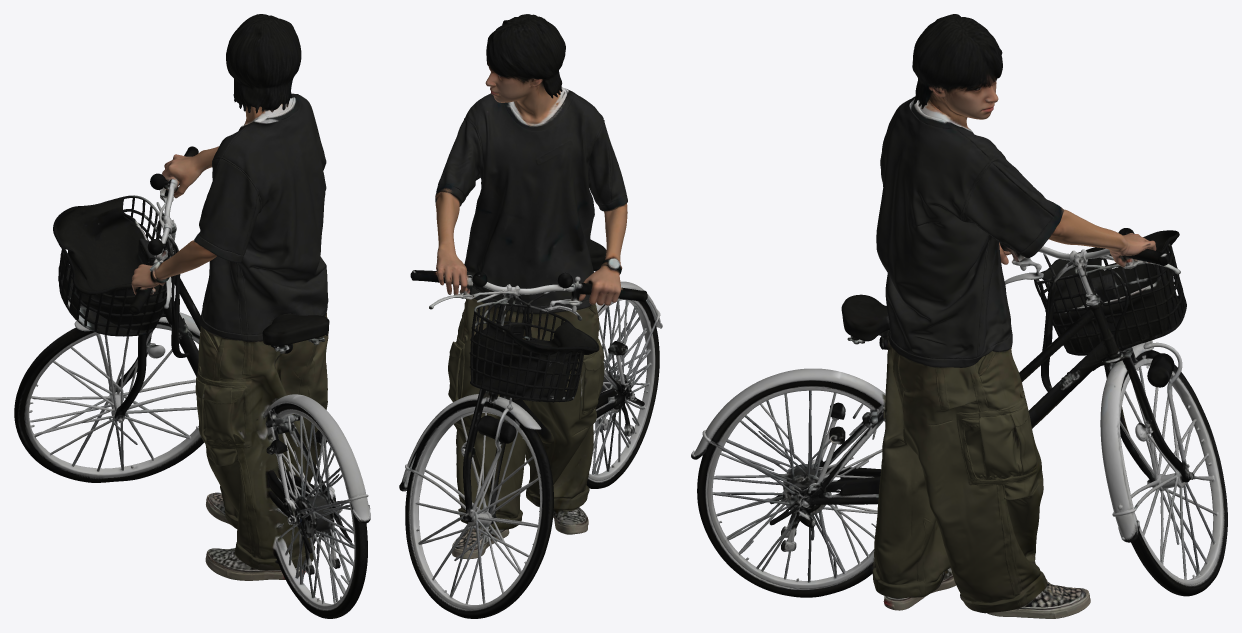
The model's file is bicycle-rider.glb.
The picture shows the model from 3 angles, left to right: view 1: azimuth 30°, elevation 25°; view 2: azimuth 150°, elevation 25°; view 3: azimuth 270°, elevation 25°; orthographic projection. The views are drawn at different scales.
Visible parts, largest first — view 1: tripo_node_6c22886b-eff7-445f-9eee-04f22dd47206; view 2: tripo_node_6c22886b-eff7-445f-9eee-04f22dd47206; view 3: tripo_node_6c22886b-eff7-445f-9eee-04f22dd47206.
Part boxes in pixels (x1,y1,x2,y2): tripo_node_6c22886b-eff7-445f-9eee-04f22dd47206: (14, 14, 370, 618); tripo_node_6c22886b-eff7-445f-9eee-04f22dd47206: (399, 14, 662, 618); tripo_node_6c22886b-eff7-445f-9eee-04f22dd47206: (691, 14, 1227, 618).
Bounding box in the file's own units: 0.372 × 0.9784 × 0.8096.
Materials: 1 (1 with a texture image).
